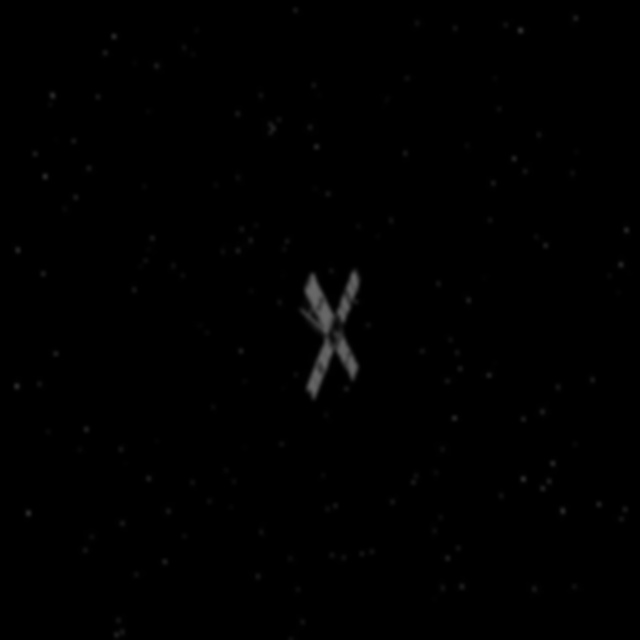satellite: (266, 261, 383, 405)
